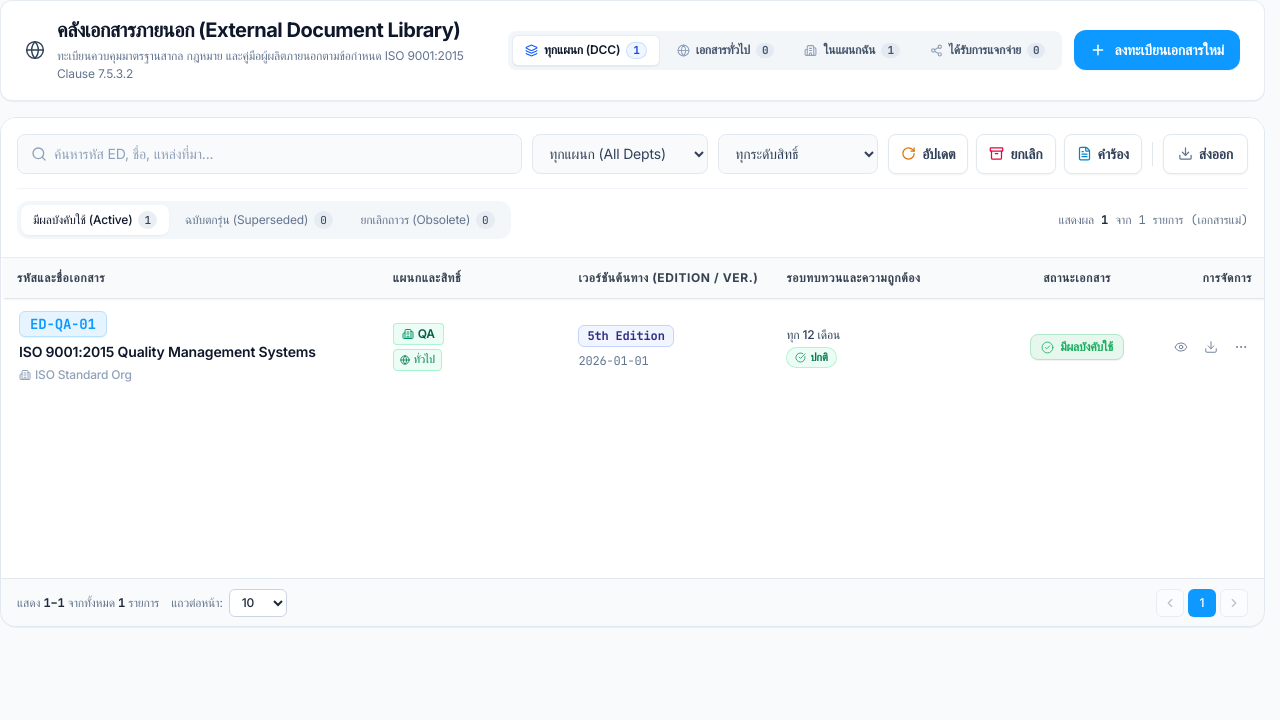
it: ExternalDocsList Full-Width Layout & Component Structure Tests › 3. Renders full-width data table with search filter
Check: the text "ED-QA-01" is shown, box [19,311,107,337]
Check: the text "ISO 9001:2015 Quality Management Systems" is shown, box [19,341,365,363]
// Filter by search: non-matching term hides the row
Type "FDA" into the field with placeholder "ค้นหารหัส ED, ชื่อ, แหล่งที่มา..." at (270, 154), box [17,134,522,174]
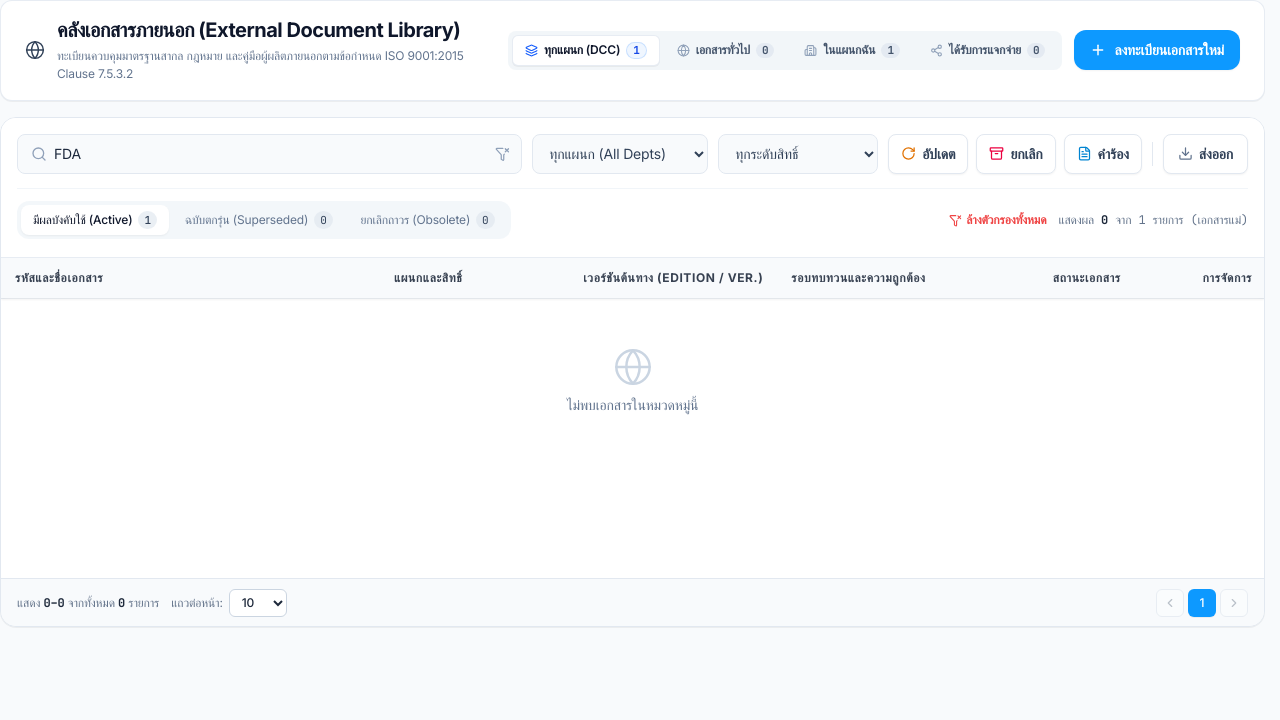
Check: the text "ED-QA-01" is gone
Replace the text in the field with placeholder "ค้นหารหัส ED, ชื่อ, แหล่งที่มา..." with "ISO" at (270, 154), box [17,134,522,174]
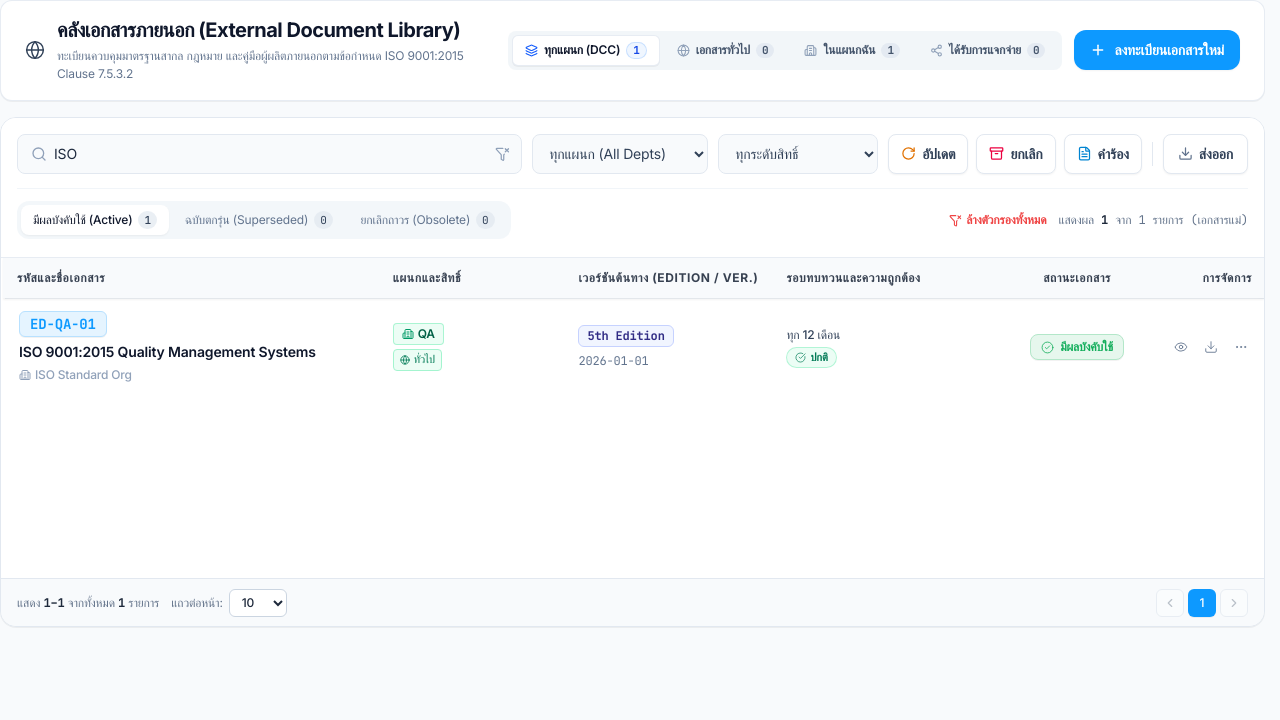
Check: the text "ED-QA-01" is shown, box [19,311,107,337]
